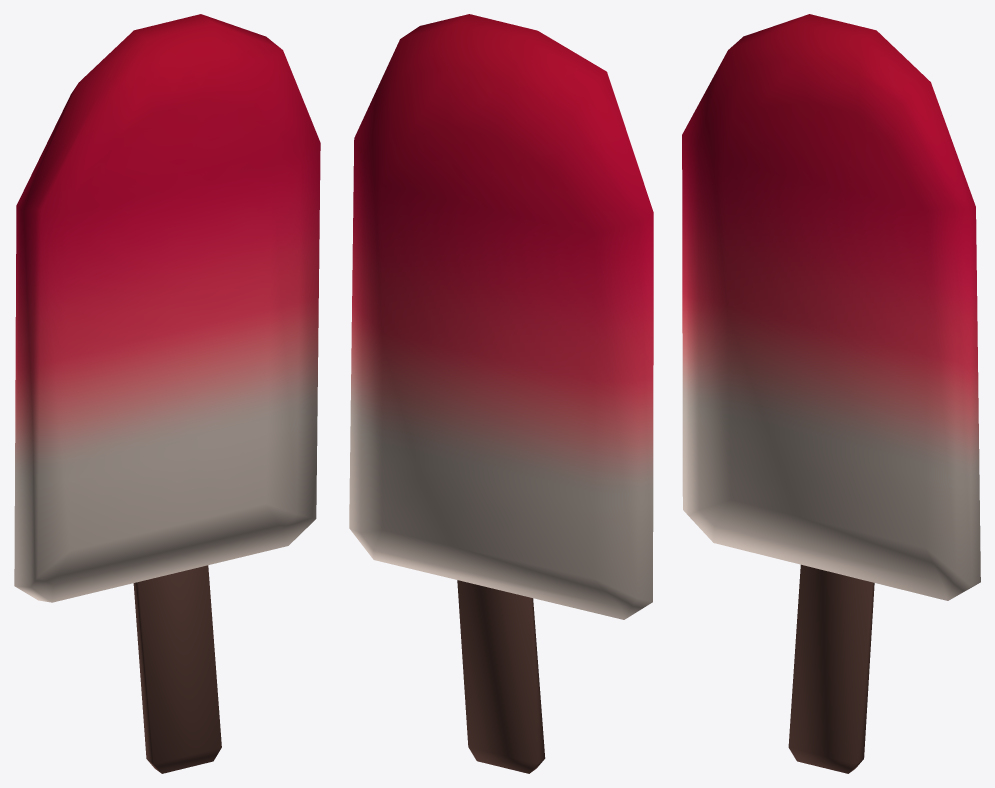
The model's file is IceCream.fbx.
The picture shows the model from 3 angles, left to right: view 1: azimuth 30°, elevation 25°; view 2: azimuth 150°, elevation 25°; view 3: azimuth 330°, elevation 25°; orthographic projection.
Parts seen in each view (by area): view 1: IceCream001; view 2: IceCream001; view 3: IceCream001.
Part boxes in pixels (left/top/right/bottom): IceCream001: left=14, top=14, right=320, bottom=773; IceCream001: left=349, top=14, right=653, bottom=773; IceCream001: left=682, top=14, right=980, bottom=773.
Size of the model in its own units: 6.04 by 14.16 by 1.44.
